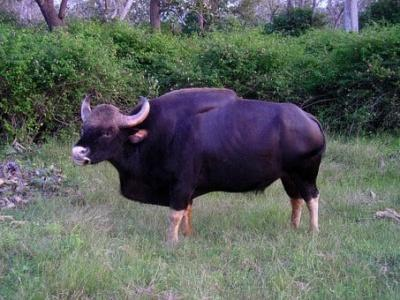buffalo: (70, 88, 328, 246)
